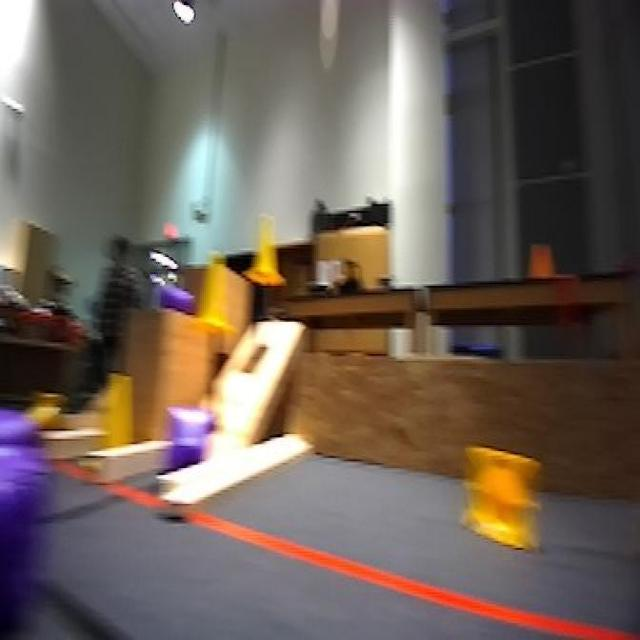frc_cone: (462, 444, 543, 558), (86, 366, 141, 483), (197, 235, 236, 340), (21, 384, 66, 438), (254, 218, 279, 298)
frc_cube: (0, 447, 52, 640), (160, 412, 203, 488), (0, 410, 36, 463), (144, 281, 194, 313)
